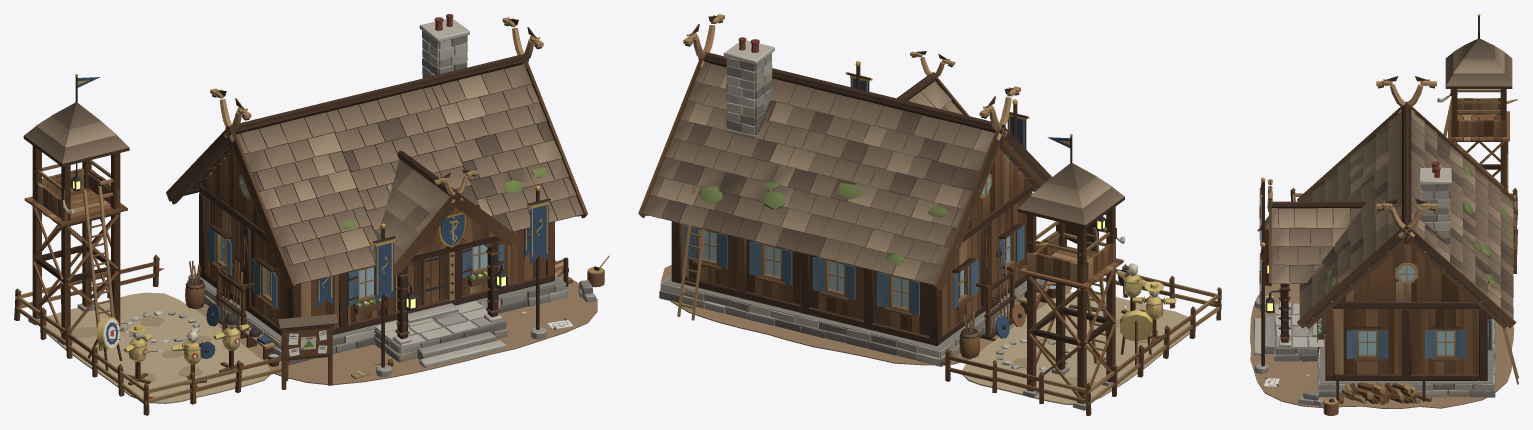
File: guildhall.glb
3 renders of one model, left to right at view 1: azimuth 30°, elevation 25°; view 2: azimuth 150°, elevation 25°; view 3: azimuth 270°, elevation 25°, orthographic. The views are drawn at different scales.
Visible parts, largest first — view 1: stage_08_mesh, stage_16_mesh, stage_14_mesh, stage_09_mesh, stage_02_mesh, stage_01_mesh, stage_15_mesh, stage_06_mesh, stage_11_mesh, stage_10_mesh, stage_12_mesh, stage_04_mesh (+6 smaller); view 2: stage_08_mesh, stage_16_mesh, stage_14_mesh, stage_06_mesh, stage_11_mesh, stage_02_mesh, stage_15_mesh, stage_12_mesh, stage_07_mesh, stage_04_mesh, stage_01_mesh, stage_03_mesh (+2 smaller); view 3: stage_08_mesh, stage_16_mesh, stage_06_mesh, stage_09_mesh, stage_02_mesh, stage_07_mesh, stage_01_mesh, stage_12_mesh, stage_11_mesh, stage_04_mesh, stage_13_mesh, stage_03_mesh (+2 smaller).
Boxes of the visible parts, x1,y1,x2,y2 form: stage_08_mesh: (166, 17, 587, 289); stage_16_mesh: (23, 74, 337, 389); stage_14_mesh: (14, 254, 288, 415); stage_09_mesh: (371, 150, 522, 344); stage_02_mesh: (188, 273, 595, 367); stage_01_mesh: (20, 268, 597, 414); stage_15_mesh: (87, 236, 279, 387); stage_06_mesh: (204, 196, 545, 327); stage_11_mesh: (206, 174, 504, 314); stage_10_mesh: (394, 212, 466, 323); stage_12_mesh: (419, 14, 609, 287); stage_04_mesh: (199, 193, 554, 333); stage_08_mesh: (638, 14, 1051, 290); stage_16_mesh: (1017, 134, 1125, 410); stage_14_mesh: (945, 264, 1221, 415); stage_06_mesh: (680, 196, 1026, 335); stage_11_mesh: (684, 173, 1024, 317); stage_02_mesh: (659, 275, 1043, 366); stage_15_mesh: (959, 236, 1176, 365); stage_12_mesh: (723, 37, 774, 138); stage_07_mesh: (645, 137, 1045, 320); stage_04_mesh: (671, 192, 1032, 345); stage_01_mesh: (660, 265, 1217, 399); stage_03_mesh: (672, 274, 1026, 344); stage_08_mesh: (1297, 76, 1516, 328); stage_16_mesh: (1257, 14, 1517, 285); stage_06_mesh: (1334, 263, 1478, 374); stage_09_mesh: (1267, 179, 1366, 346); stage_02_mesh: (1254, 303, 1495, 406); stage_07_mesh: (1306, 236, 1518, 384); stage_01_mesh: (1250, 259, 1515, 408); stage_12_mesh: (1323, 161, 1451, 415); stage_11_mesh: (1318, 263, 1491, 361); stage_04_mesh: (1325, 309, 1487, 380); stage_13_mesh: (1254, 177, 1280, 373); stage_03_mesh: (1326, 374, 1486, 380).
Bounding box in the file's own units: 16.8 × 8.3 × 9.28.
